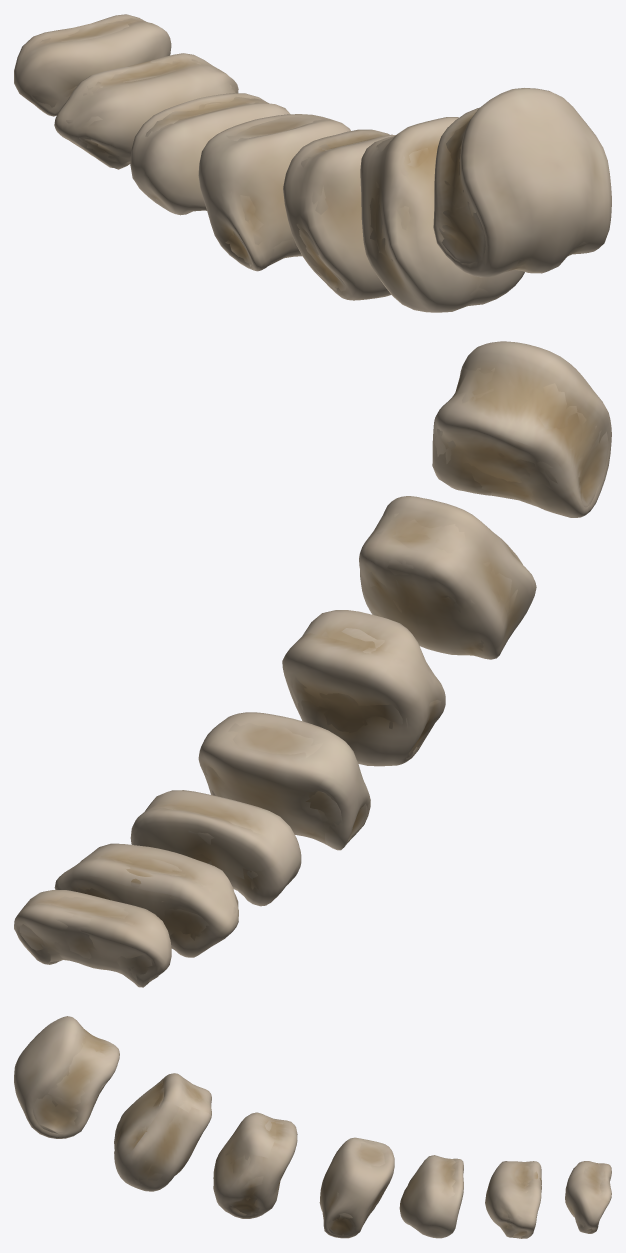
Rendered from Sternum.fbx.
3 renders of one model, top to bottom at view 1: azimuth 30°, elevation 25°; view 2: azimuth 150°, elevation 25°; view 3: azimuth 270°, elevation 25°, orthographic. The views are drawn at different scales.
Visible parts, largest first — view 1: Sternum, Sternum low; view 2: Sternum, Sternum low; view 3: Sternum, Sternum low.
Boxes of the visible parts, x1,y1,x2,y2 form: Sternum: (14,14,611,312); Sternum low: (32,18,587,305); Sternum: (14,341,611,987); Sternum low: (19,367,608,981); Sternum: (14,1016,611,1238); Sternum low: (32,1030,610,1237).
Size of the model in its own units: 7.38 by 13.38 by 35.26.
1 material, 1 textured.
